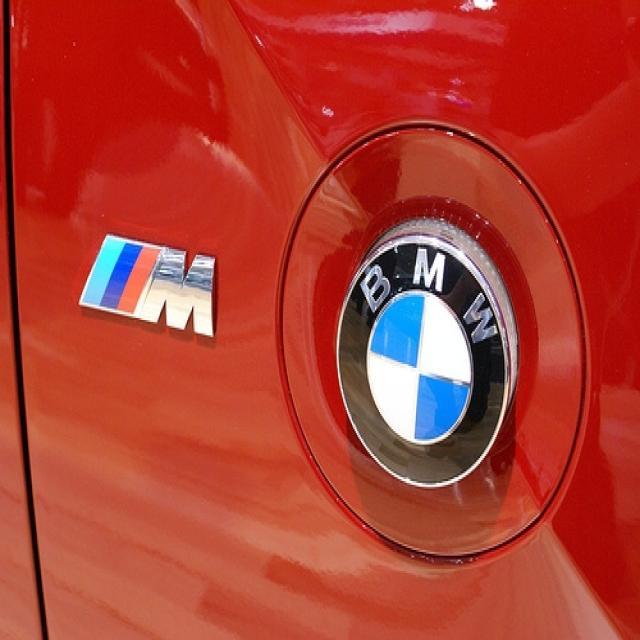bmw: (331, 225, 516, 497)
